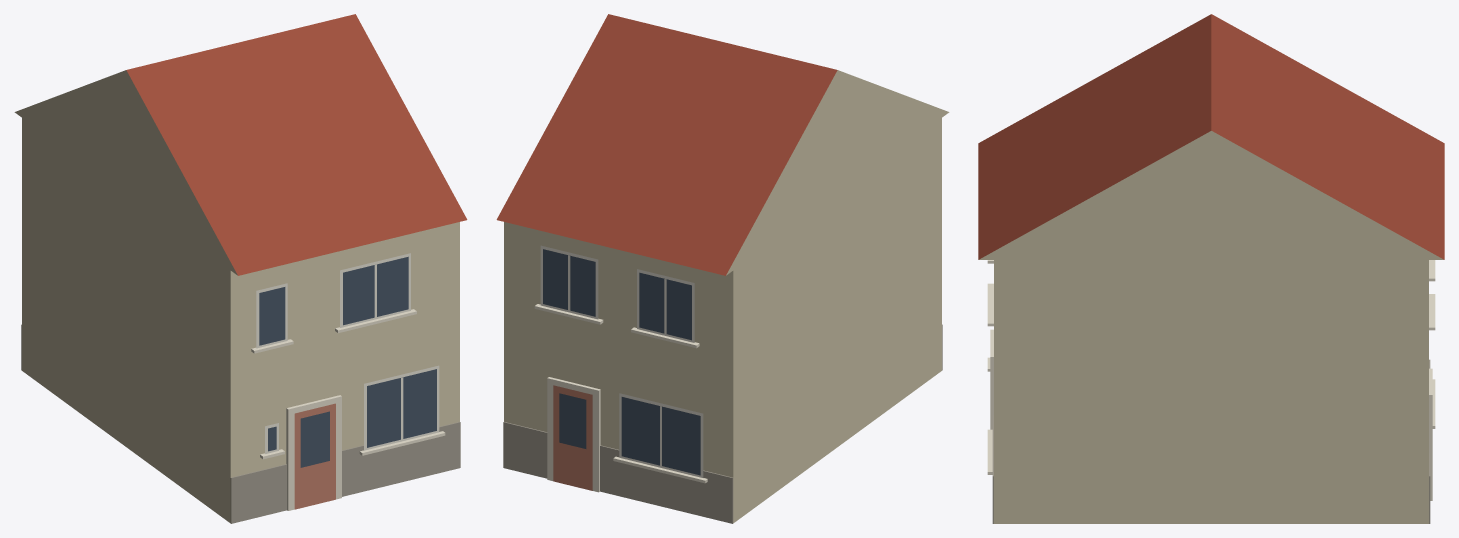
File: nw-rowhouse-render-tile__cream__2__gable__long__solid__mirror.glb
The picture shows the model from 3 angles, left to right: view 1: azimuth 30°, elevation 25°; view 2: azimuth 150°, elevation 25°; view 3: azimuth 270°, elevation 25°; orthographic projection. The views are drawn at different scales.
Parts seen in each view (by area): view 1: nw-rowhouse-render-tile__cream__2__gable__long__solid__mirro; view 2: nw-rowhouse-render-tile__cream__2__gable__long__solid__mirro; view 3: nw-rowhouse-render-tile__cream__2__gable__long__solid__mirro.
Boxes of the visible parts, box(x1,y1,x2,y2) form: nw-rowhouse-render-tile__cream__2__gable__long__solid__mirro: box(14, 14, 467, 523); nw-rowhouse-render-tile__cream__2__gable__long__solid__mirro: box(496, 14, 949, 523); nw-rowhouse-render-tile__cream__2__gable__long__solid__mirro: box(978, 14, 1444, 523).
Size of the model in its own units: 5.24 by 8.24 by 8.86.
